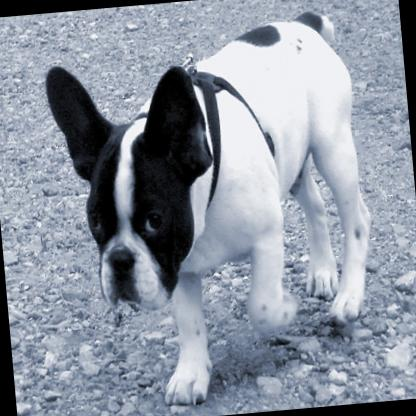French_bulldog: (37, 5, 387, 416)
